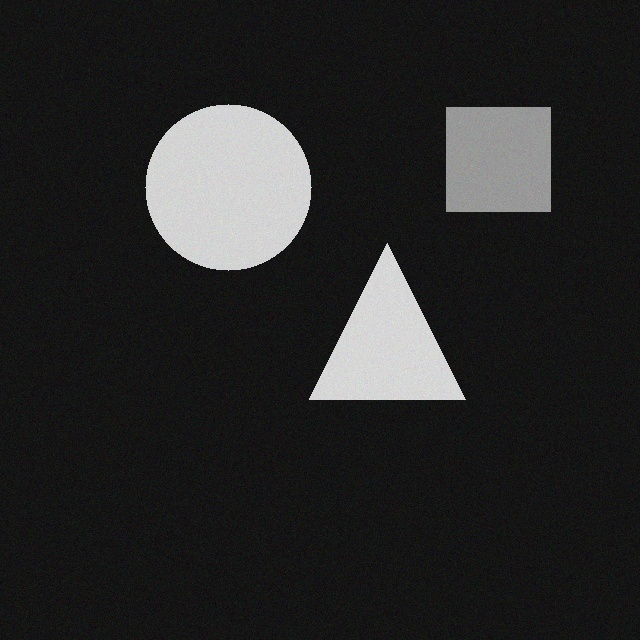circle: (139, 110, 305, 276)
square: (440, 113, 544, 217)
triangle: (303, 249, 459, 405)
